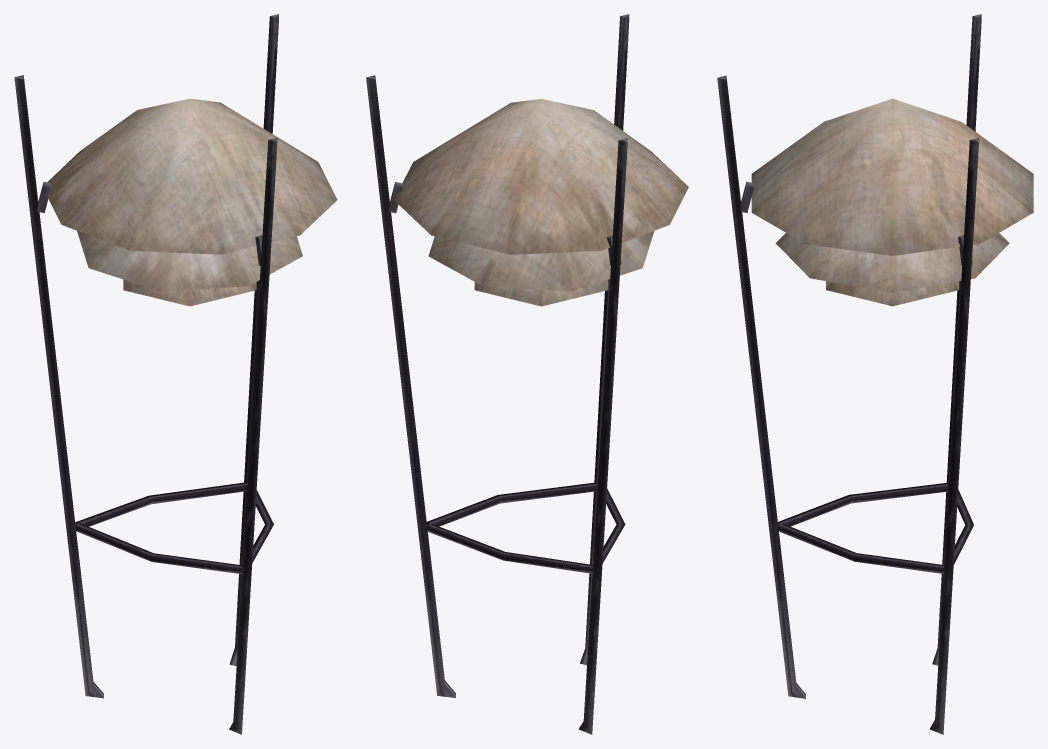
The model's file is frn_all_lamp_free_s2_l0.fbx.
3 views of the same model, side by side, from view 1: azimuth 30°, elevation 25°; view 2: azimuth 150°, elevation 25°; view 3: azimuth 270°, elevation 25° (orthographic).
Visible parts, largest first — view 1: mesh_node; view 2: mesh_node; view 3: mesh_node.
Part boxes in pixels (bbox=[...]): mesh_node: bbox=[14, 14, 337, 734]; mesh_node: bbox=[366, 14, 688, 734]; mesh_node: bbox=[717, 14, 1033, 734].
Bounding box in the file's own units: 0.7964 × 1.79 × 0.8295.
